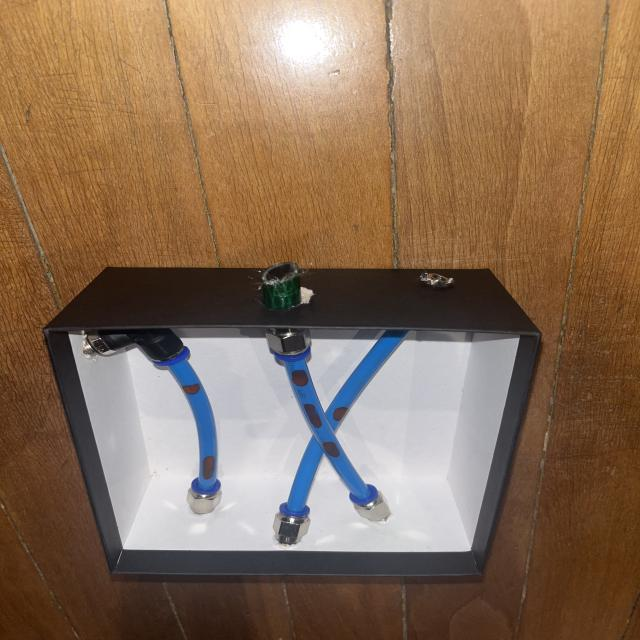hose_damage: (300, 401, 325, 430), (201, 455, 216, 481), (288, 370, 310, 387), (322, 440, 341, 459), (180, 384, 202, 395), (333, 406, 347, 421)
